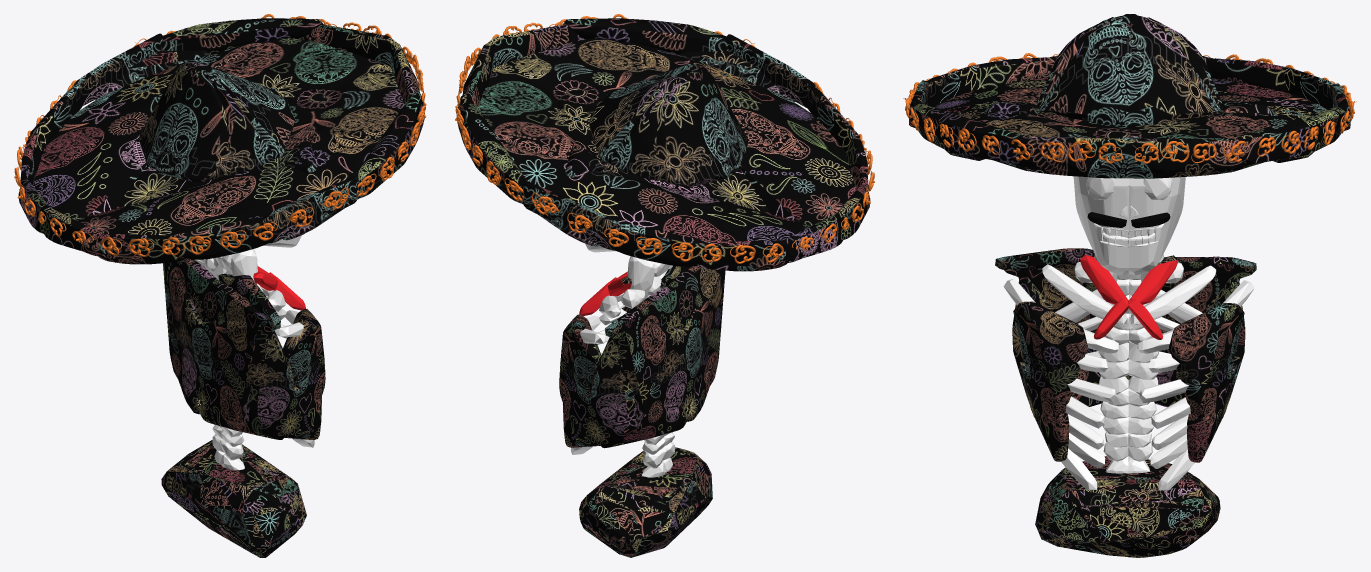
Rendered from cuerpo.obj.
3 renders of one model, left to right at view 1: azimuth 30°, elevation 25°; view 2: azimuth 150°, elevation 25°; view 3: azimuth 270°, elevation 25°, orthographic. The views are drawn at different scales.
Parts seen in each view (by area): view 1: Object_11, Object_11.002, Object_17, Object_15, Object_7, Object_11.003; view 2: Object_11, Object_11.002, Object_17, Object_15, Object_7, Object_11.003; view 3: Object_11, Object_7, Object_11.002, Object_17, Object_15, Object_11.003, Object_11.001.
Boxes of the visible parts, <box> form: Object_11: <box>18,18,424,264</box>; Object_11.002: <box>163,259,325,439</box>; Object_17: <box>161,440,306,557</box>; Object_15: <box>14,14,426,256</box>; Object_7: <box>195,235,314,470</box>; Object_11.003: <box>253,266,305,310</box>; Object_11: <box>457,18,870,284</box>; Object_11.002: <box>559,265,725,448</box>; Object_17: <box>579,447,712,557</box>; Object_15: <box>455,14,874,263</box>; Object_7: <box>571,243,674,477</box>; Object_11.003: <box>579,271,631,315</box>; Object_11: <box>909,14,1350,264</box>; Object_7: <box>1003,176,1254,490</box>; Object_11.002: <box>995,248,1256,462</box>; Object_17: <box>1035,456,1220,557</box>; Object_15: <box>903,53,1356,163</box>; Object_11.003: <box>1080,255,1178,339</box>; Object_11.001: <box>1087,212,1170,227</box>.
Bounding box in the file's own units: 0.5636 × 0.7115 × 0.5596.
Materials: 6 (6 with a texture image).
